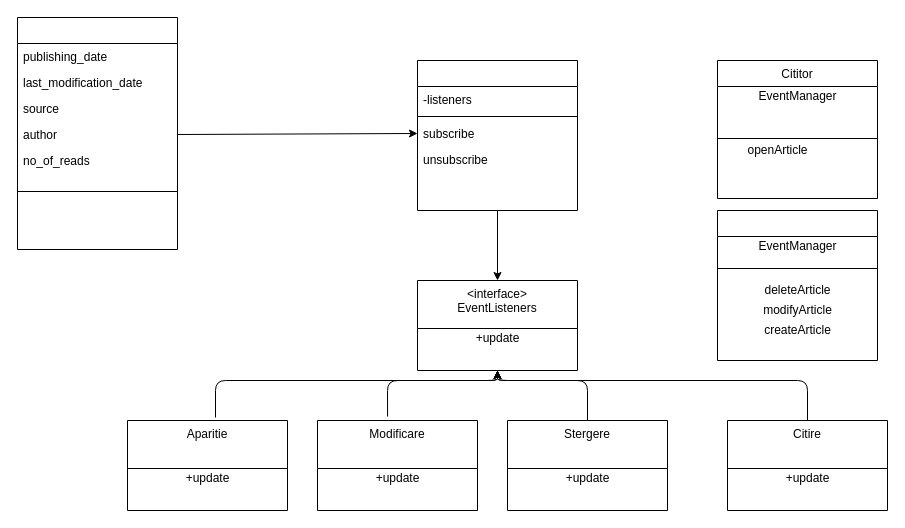
Image size: 905x528. Some labels were removed from this diagram. The box of each missing label's shape, as (x1, y1, x2, y2) in pixels:
Editor: (716, 210, 878, 360)
Event Manager: (416, 60, 578, 210)
Stire: (16, 16, 178, 250)
